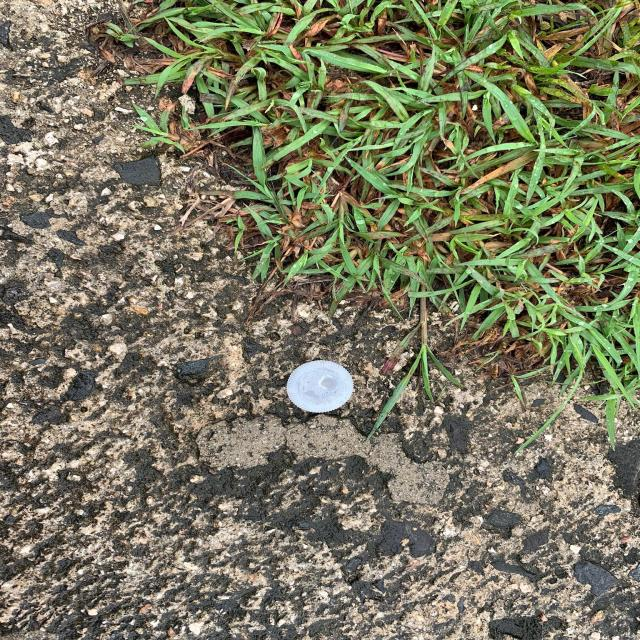litter: (286, 359, 356, 413)
